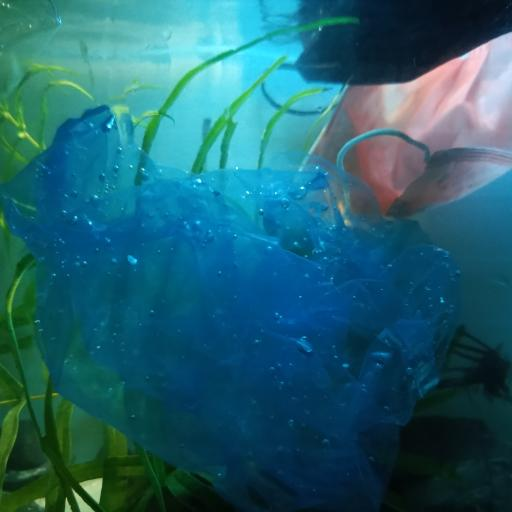mask: (297, 34, 512, 226), (259, 0, 512, 118)
plastic_bag: (0, 103, 462, 512)
